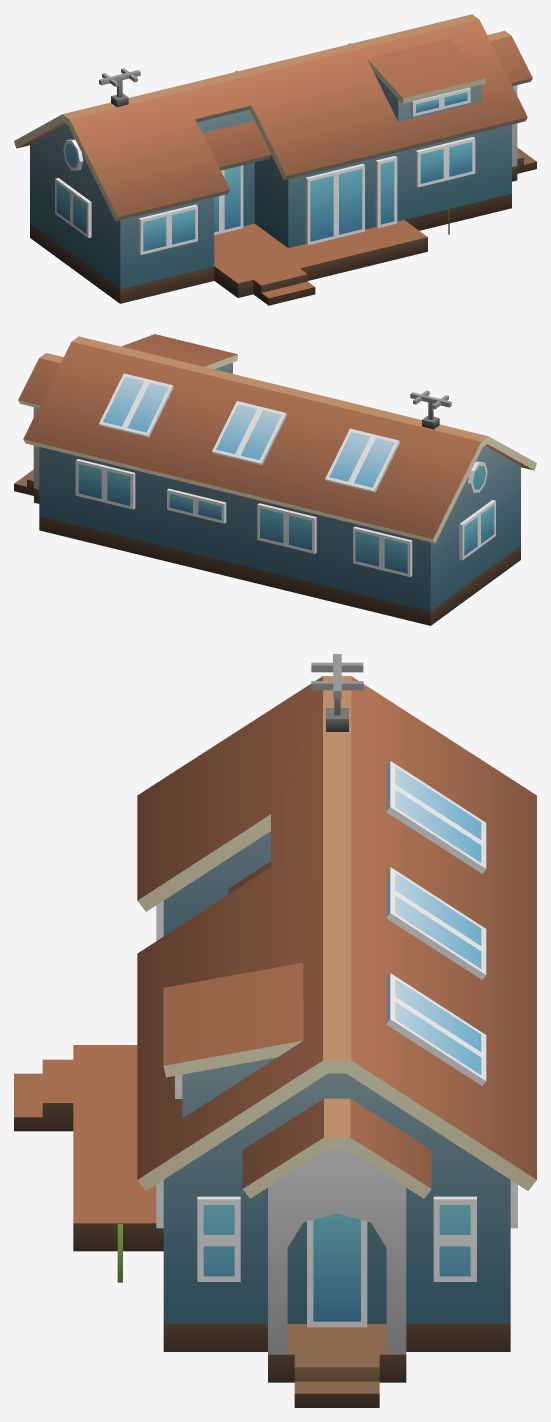
File: big cottage 1 floor new.fbx
3 renders of one model, top to bottom at view 1: azimuth 30°, elevation 25°; view 2: azimuth 150°, elevation 25°; view 3: azimuth 270°, elevation 25°, orthographic. The views are drawn at different scales.
Parts seen in each view (by area): view 1: big_cottage_1_floor; view 2: big_cottage_1_floor; view 3: big_cottage_1_floor.
Boxes of the visible parts, left/top/right/bottom form: big_cottage_1_floor: left=14, top=14, right=536, bottom=305; big_cottage_1_floor: left=14, top=334, right=536, bottom=625; big_cottage_1_floor: left=14, top=654, right=536, bottom=1407.
Size of the model in its own units: 1512 by 579 by 774.
Materials: 1 (1 with a texture image).
